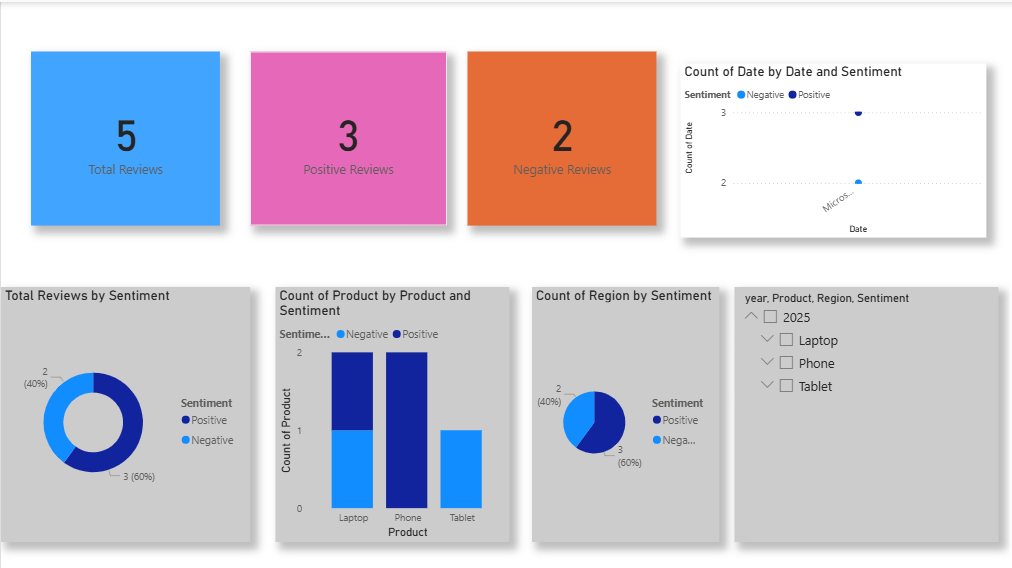

The page's visual inventory and layout, read from the dashboard file:
{"tool":"powerbi","page":{"name":"Page 1","canvas":[1280,720],"ordinal":0},"visuals":[{"type":"card","fields":{"Values":["Sheet1.Total Reviews"]},"box":[37.8,62.4,238.1,219.2],"z":0},{"type":"card","fields":{"Values":["Sheet1.Positive Reviews"]},"box":[313.7,62.4,247.6,219.2],"z":1},{"type":"card","fields":{"Values":["Sheet1.Negative Reviews"]},"box":[587.7,62.4,238.1,219.2],"z":2},{"type":"donutChart","fields":{"Category":["Sheet1.Sentiment"],"Y":["Sheet1.Total Reviews"]},"box":[0,359.1,313.7,321.3],"z":3},{"type":"columnChart","fields":{"Category":["Sheet1.Product"],"Series":["Sheet1.Sentiment"],"Y":["CountNonNull(Sheet1.Product)"]},"box":[345.8,359.1,294.8,321.3],"z":4},{"type":"lineChart","fields":{"Category":["Sheet1.Date"],"Series":["Sheet1.Sentiment"],"Y":["CountNonNull(Sheet1.Date)"]},"box":[856.1,77.5,385.5,219.2],"z":5},{"type":"pieChart","fields":{"Category":["Sheet1.Sentiment"],"Y":["CountNonNull(Sheet1.Region)"]},"box":[669,359.1,236.2,321.3],"z":6},{"type":"slicer","fields":{"Values":["Sheet1.year","Sheet1.Product","Sheet1.Region","Sheet1.Sentiment"]},"box":[924.1,359.1,332.6,321.3],"z":7}]}

Visuals, with their boxes in screenshot pixels (x1, y1, x2, y2), scaled from the page's 1280x720 canvas onto the 1012x568 screenshot:
card - Sheet1.Total Reviews: 30/49/218/222
card - Sheet1.Positive Reviews: 248/49/444/222
card - Sheet1.Negative Reviews: 465/49/653/222
donutChart - Sheet1.Sentiment x Sheet1.Total Reviews: 0/283/248/537
columnChart - Sheet1.Product x Sheet1.Sentiment: 273/283/506/537
lineChart - Sheet1.Date x Sheet1.Sentiment: 677/61/982/234
pieChart - Sheet1.Sentiment x CountNonNull(Sheet1.Region): 529/283/716/537
slicer - Sheet1.year x Sheet1.Product: 731/283/994/537
